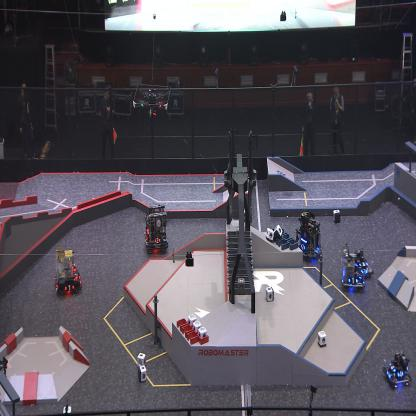car: (296, 210, 324, 260), (54, 247, 82, 295), (340, 246, 366, 293), (144, 204, 169, 252), (382, 351, 411, 386), (353, 246, 374, 282)
